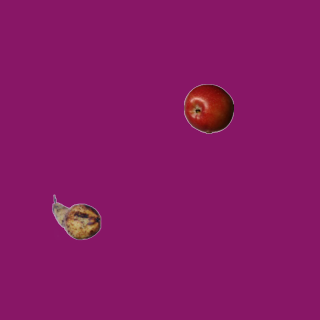Apple Braeburn: (183, 83, 233, 133)
Pear Abate: (51, 192, 101, 242)
